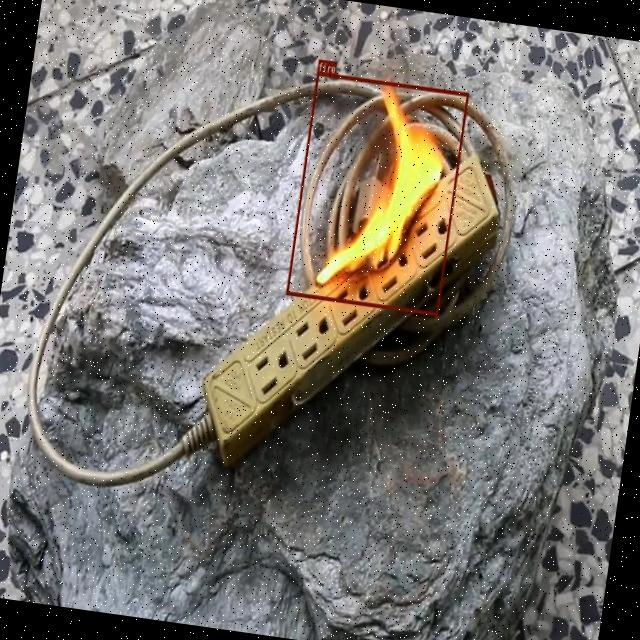fire: (286, 70, 468, 316)
